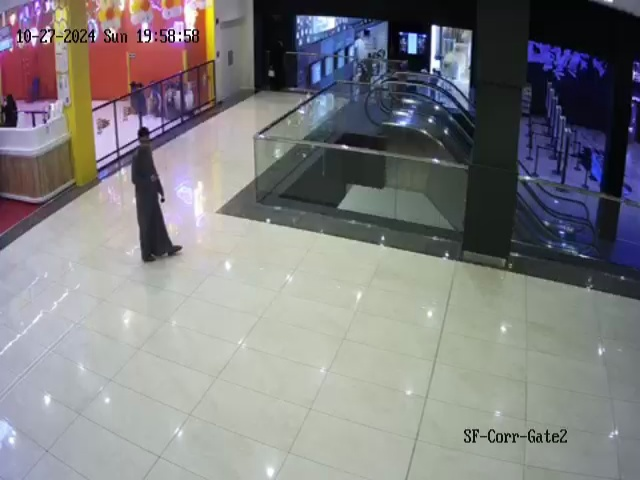female: (1, 94, 18, 127)
male: (131, 127, 183, 263)
